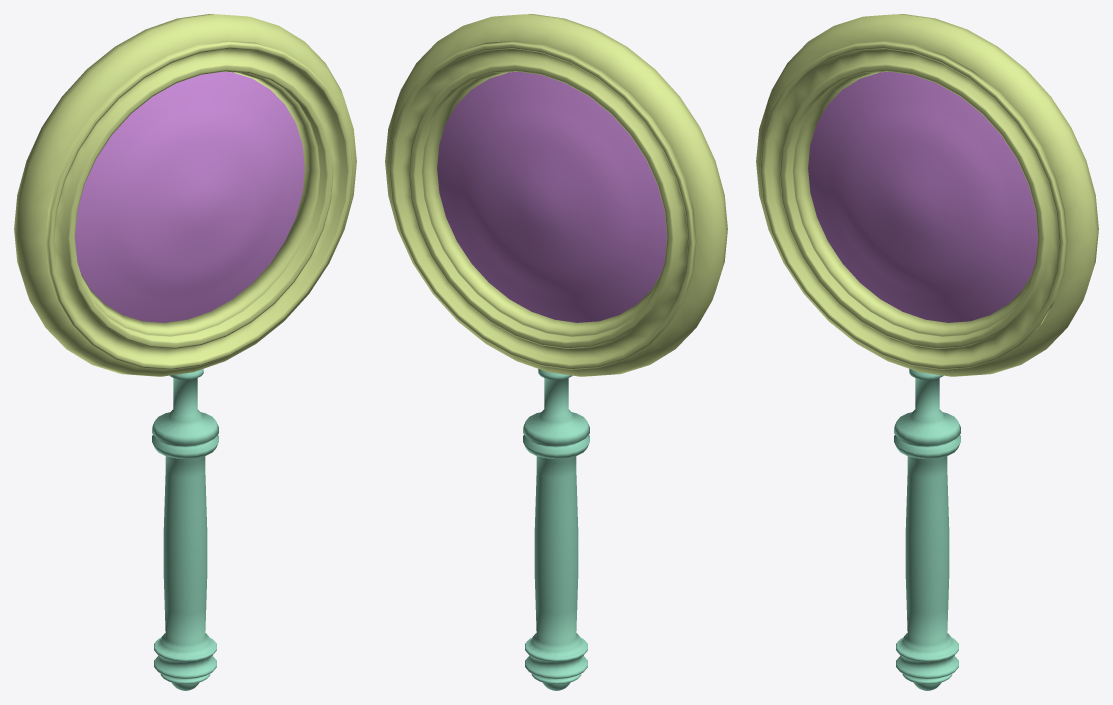
Rendered from MisterioLupa.fbx.
3 renders of one model, left to right at view 1: azimuth 30°, elevation 25°; view 2: azimuth 150°, elevation 25°; view 3: azimuth 330°, elevation 25°, orthographic.
Visible parts, largest first — view 1: Lupa; view 2: Lupa; view 3: Lupa.
Boxes of the visible parts, <box> form: Lupa: <box>14,14,356,690</box>; Lupa: <box>385,14,727,690</box>; Lupa: <box>756,14,1098,690</box>.
Bounding box in the file's own units: 96.95 × 16.74 × 184.
